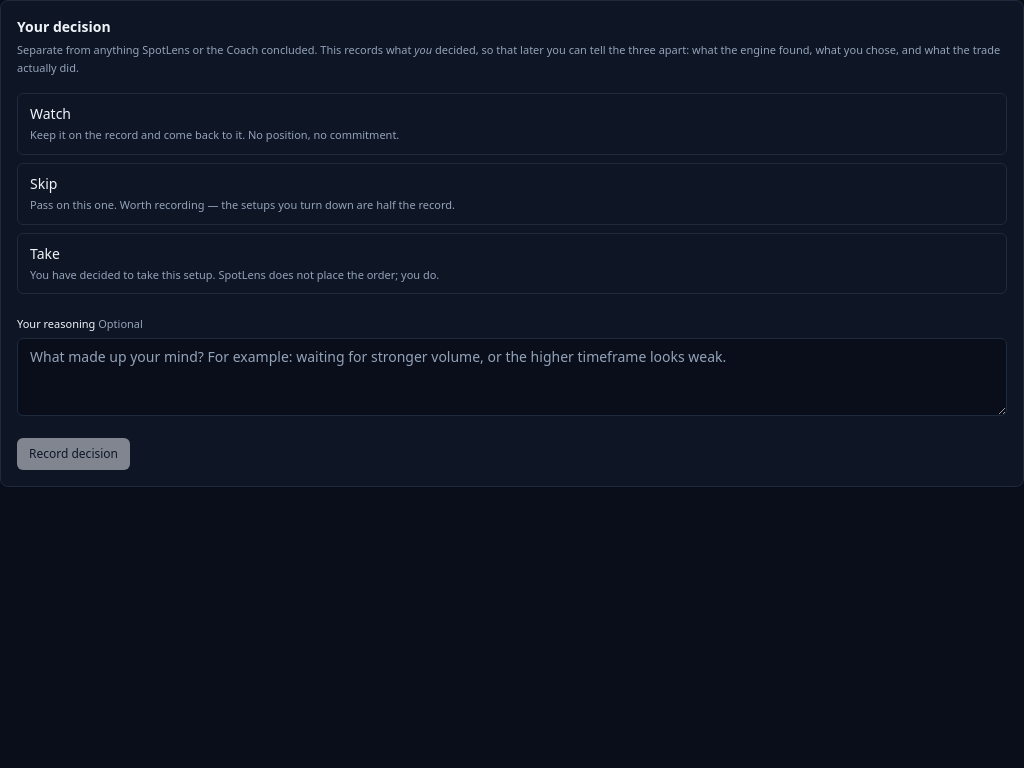
Test: take asks again, and still places nothing › does not record on the first press
Click the radio button labelled "Take" at point(235, 274), box [17, 232, 1007, 294]
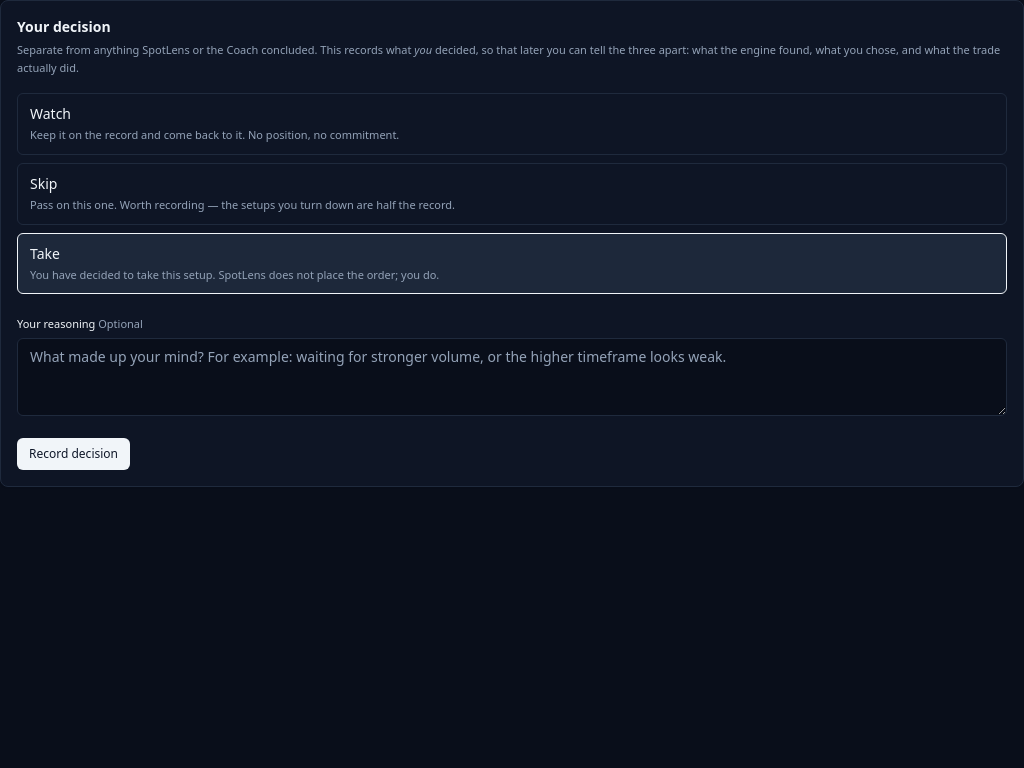
Click the button "Record decision" at point(74, 454), box [17, 438, 130, 470]
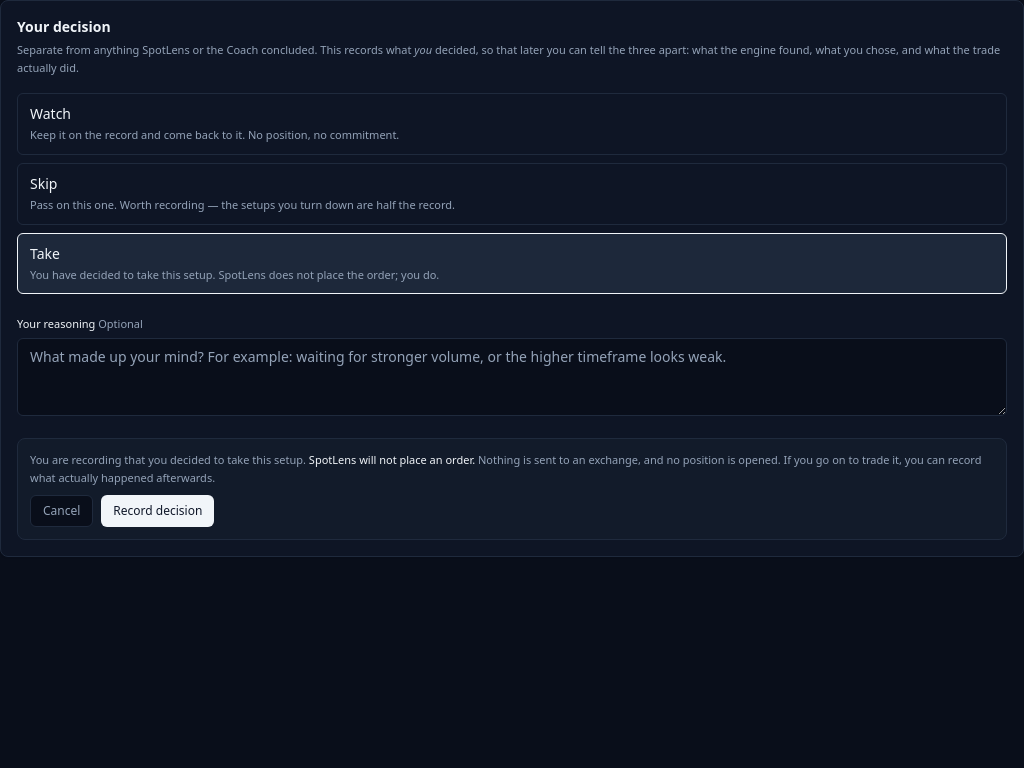
Result: the text "SpotLens will not place an order." is shown at [309, 452, 475, 467]
